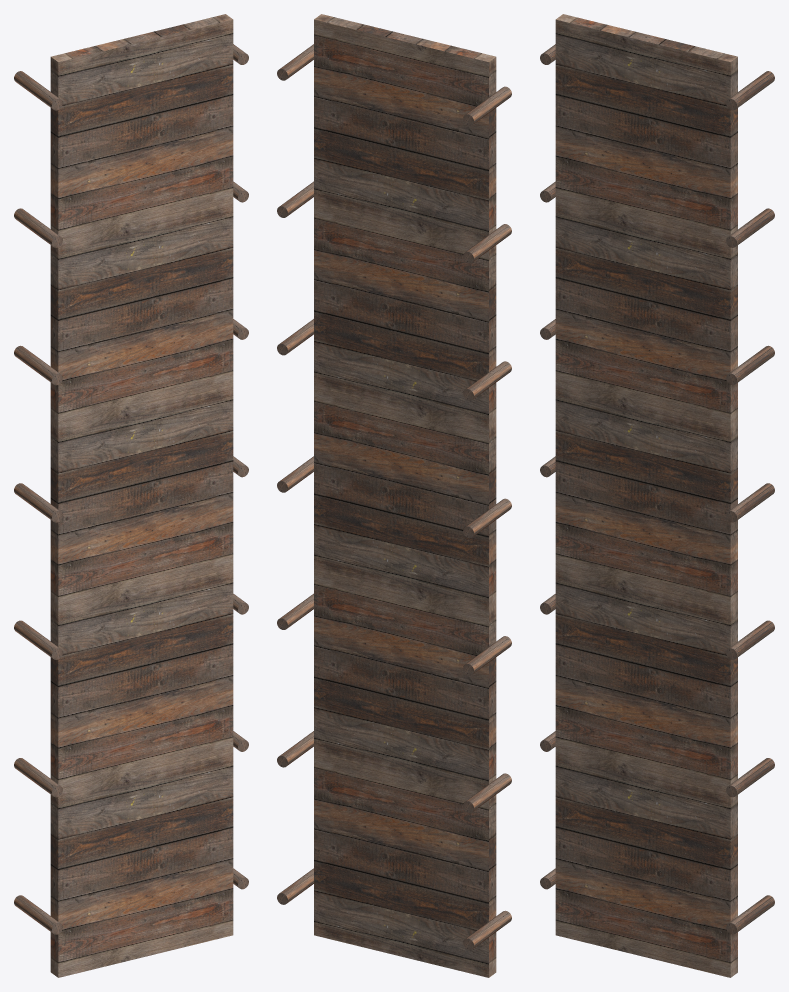
Rendered from Dock.obj.
3 renders of one model, left to right at view 1: azimuth 30°, elevation 25°; view 2: azimuth 150°, elevation 25°; view 3: azimuth 330°, elevation 25°, orthographic.
Parts seen in each view (by area): view 1: Cube, Cylinder.003, Cylinder.010, Cylinder.013, Cylinder.009, Cylinder.007, Cylinder.004, Cylinder.001_Cylinder.000; view 2: Cube, Cylinder.001_Cylinder.000, Cylinder.013, Cylinder.007, Cylinder.003, Cylinder.009, Cylinder.010, Cylinder.004, Cylinder.002, Cylinder.006, Cylinder.005, Cylinder.012 (+3 smaller); view 3: Cube, Cylinder.011, Cylinder.002, Cylinder.012, Cylinder.006, Cylinder.008, Cylinder.005, Cylinder_Cylinder.001.
Boxes of the visible parts, left/top/right/bottom form: Cube: left=50, top=14, right=233, bottom=977; Cylinder.003: left=14, top=345, right=62, bottom=385; Cylinder.010: left=14, top=758, right=62, bottom=797; Cylinder.013: left=14, top=895, right=62, bottom=934; Cylinder.009: left=14, top=620, right=62, bottom=659; Cylinder.007: left=14, top=71, right=62, bottom=110; Cylinder.004: left=14, top=208, right=62, bottom=247; Cylinder.001_Cylinder.000: left=14, top=483, right=62, bottom=522; Cube: left=314, top=14, right=496, bottom=977; Cylinder.001_Cylinder.000: left=463, top=498, right=511, bottom=538; Cylinder.013: left=463, top=910, right=511, bottom=950; Cylinder.007: left=463, top=86, right=511, bottom=125; Cylinder.003: left=463, top=361, right=511, bottom=400; Cylinder.009: left=463, top=636, right=511, bottom=675; Cylinder.010: left=463, top=773, right=511, bottom=812; Cylinder.004: left=463, top=224, right=511, bottom=263; Cylinder.002: left=277, top=319, right=313, bottom=355; Cylinder.006: left=277, top=44, right=313, bottom=80; Cylinder.005: left=277, top=181, right=313, bottom=217; Cylinder.012: left=277, top=868, right=313, bottom=904; Cube: left=555, top=14, right=737, bottom=977; Cylinder.011: left=726, top=758, right=774, bottom=797; Cylinder.002: left=726, top=345, right=774, bottom=385; Cylinder.012: left=726, top=895, right=774, bottom=934; Cylinder.006: left=726, top=71, right=774, bottom=110; Cylinder.008: left=726, top=620, right=774, bottom=659; Cylinder.005: left=726, top=208, right=774, bottom=247; Cylinder_Cylinder.001: left=726, top=483, right=774, bottom=522.
Bounding box in the file's own units: 9.01 × 40 × 3.
2 materials, 2 textured.
